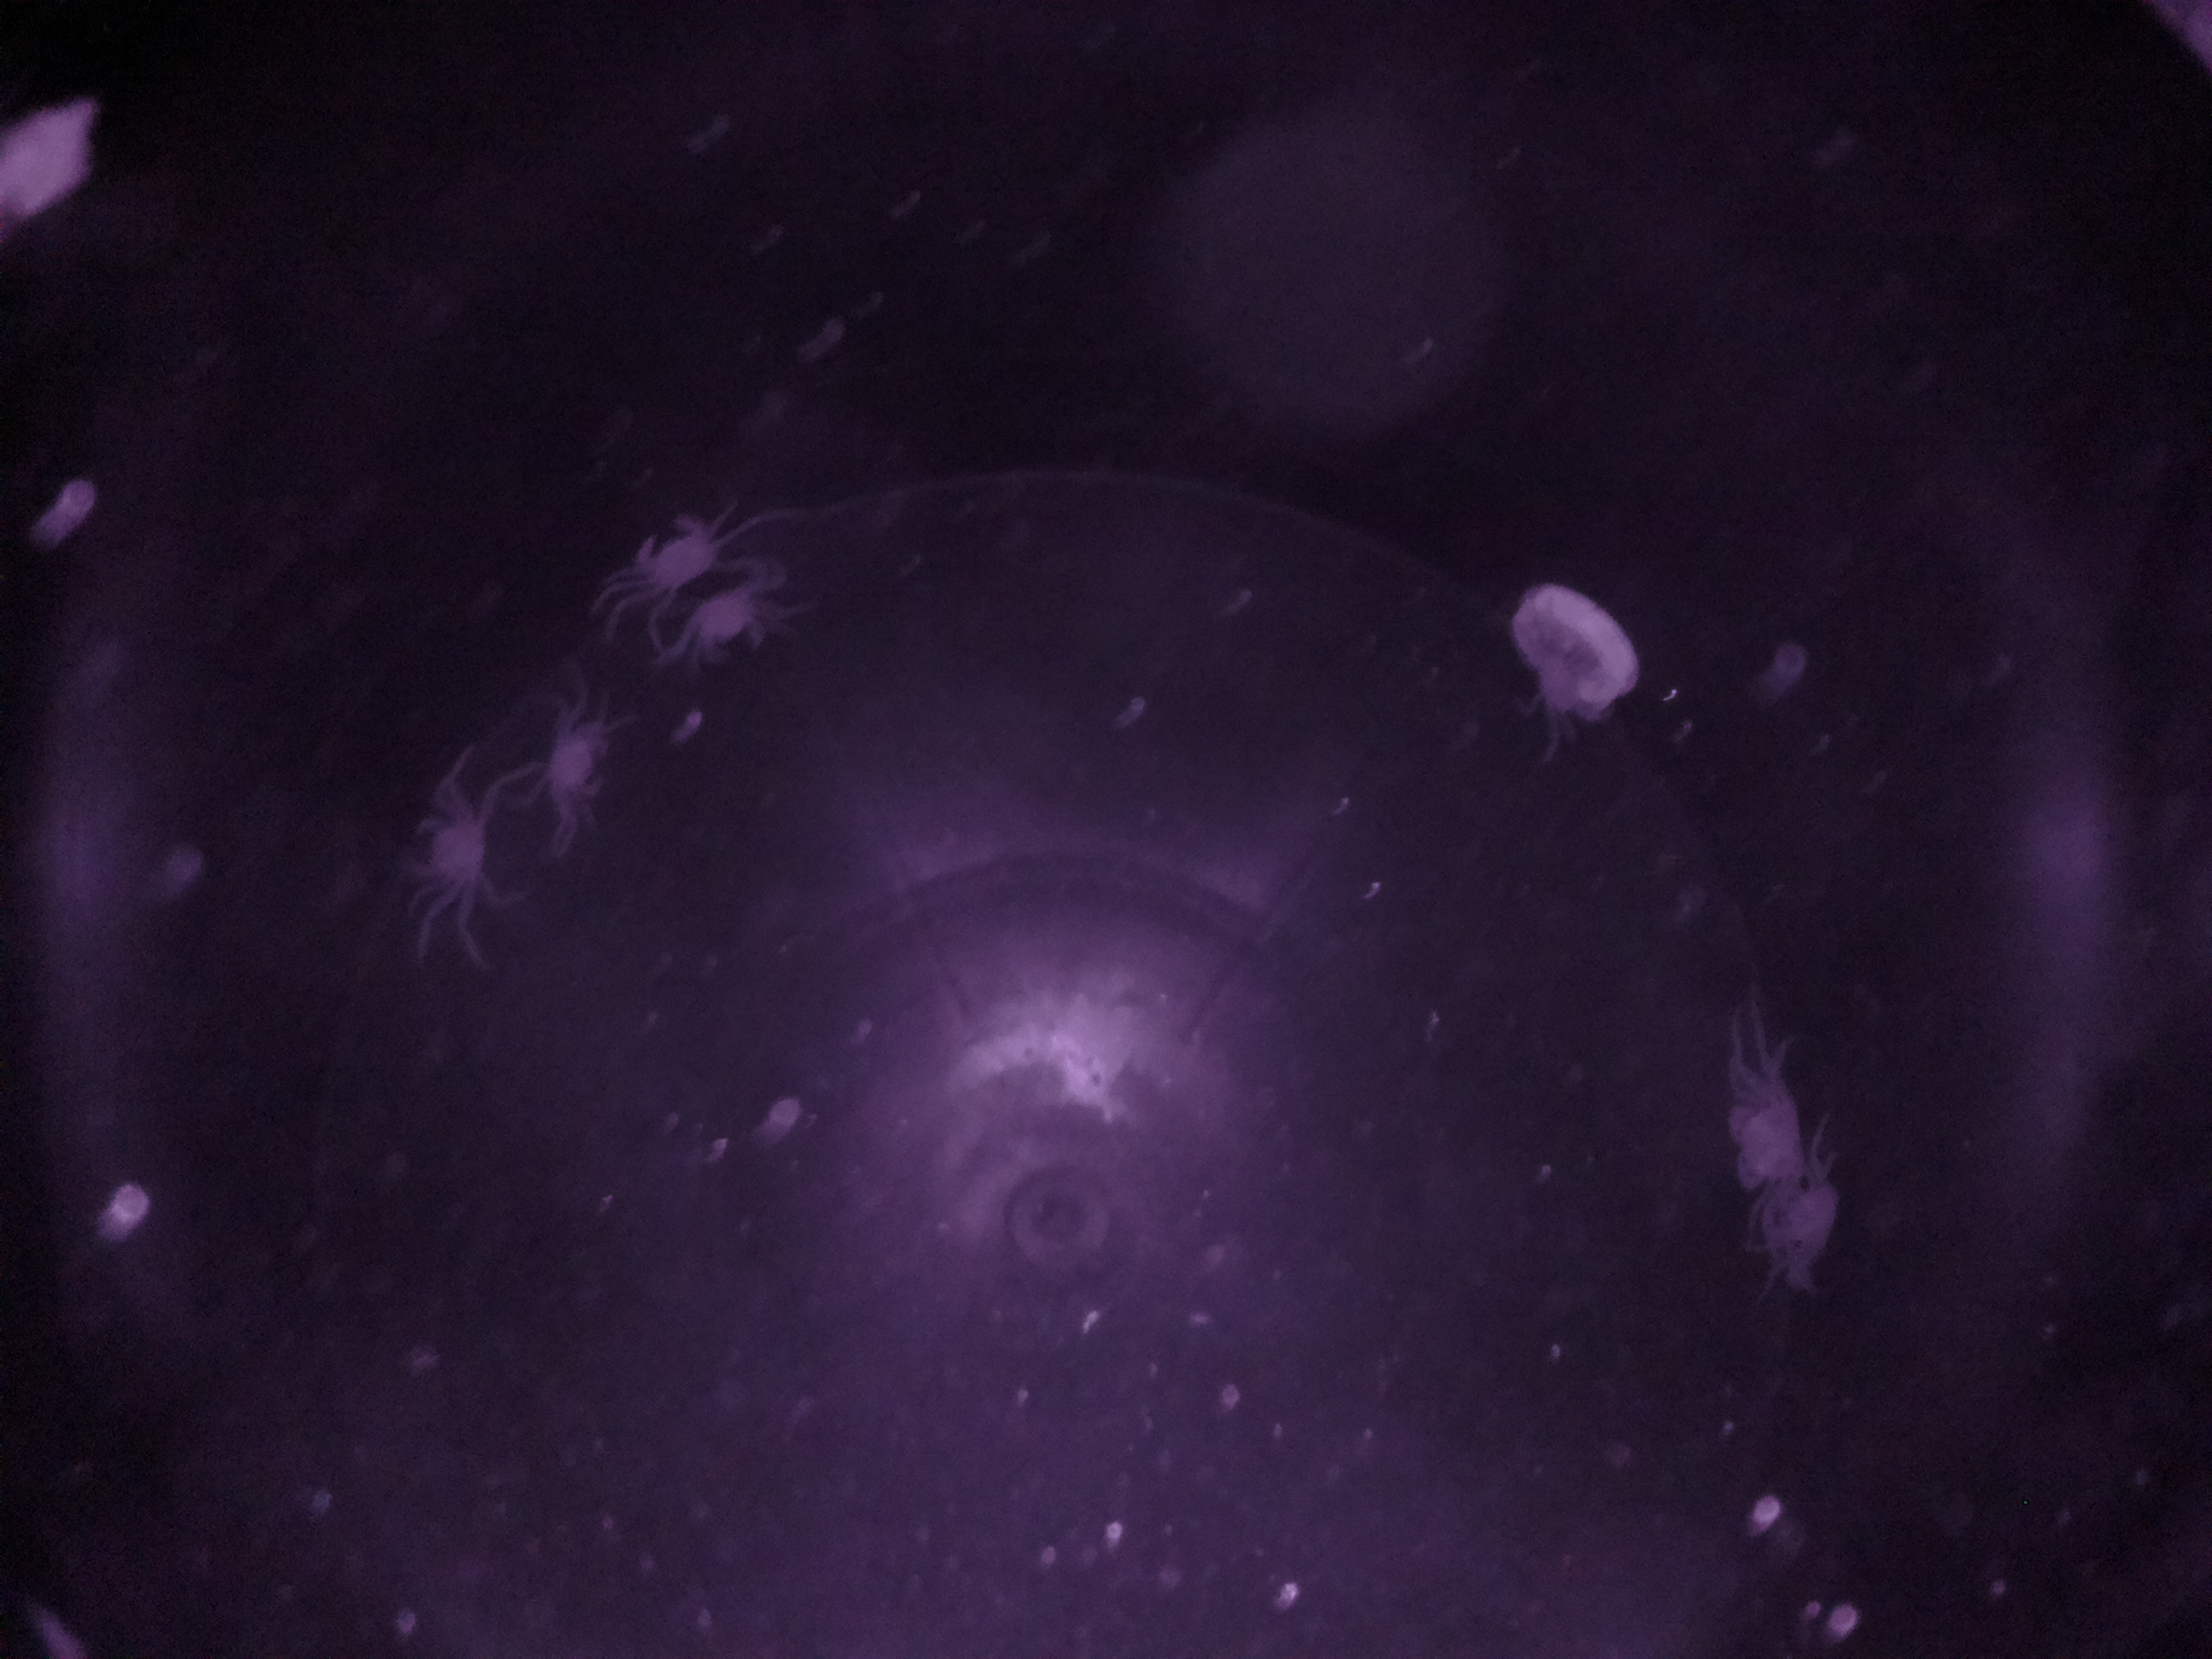Crab: (383, 767, 519, 913), (1710, 1068, 1827, 1218), (533, 692, 631, 821), (625, 486, 725, 605)
